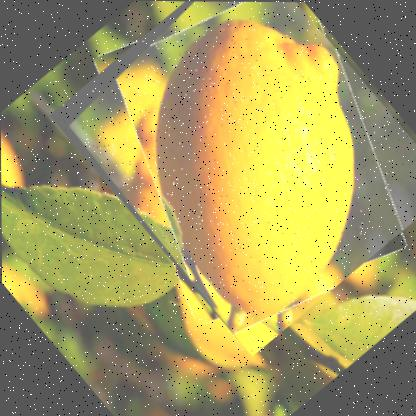lemon: (46, 0, 415, 359)
